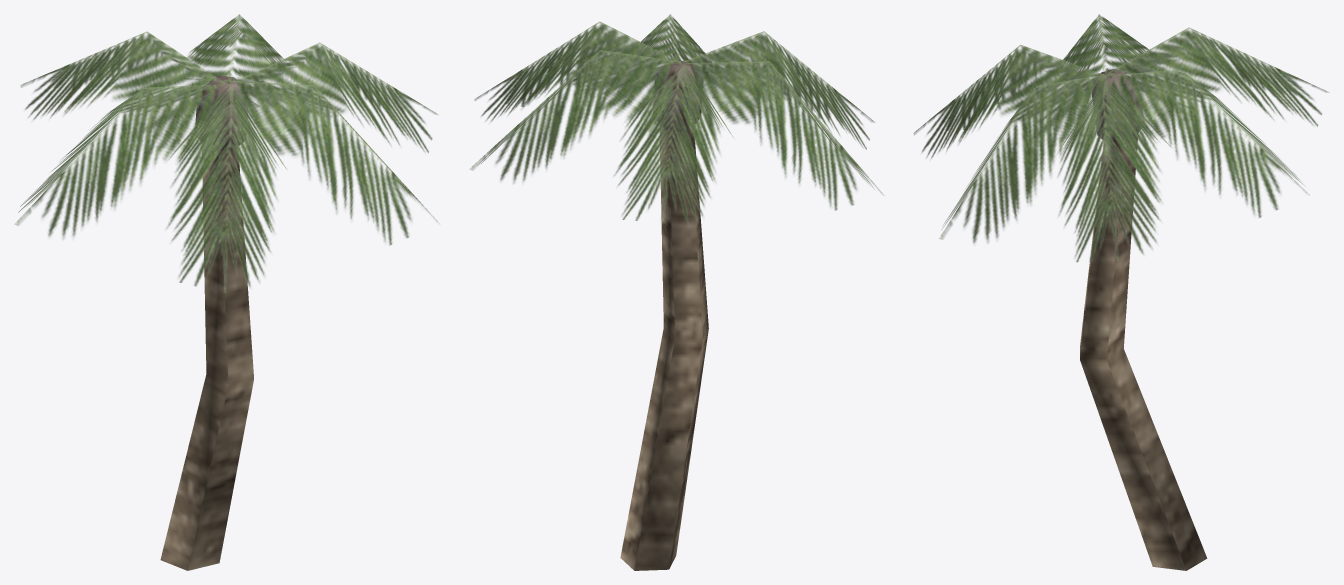
The model's file is palm_1.glb.
3 views of the same model, side by side, from view 1: azimuth 30°, elevation 25°; view 2: azimuth 150°, elevation 25°; view 3: azimuth 270°, elevation 25° (orthographic). The views are drawn at different scales.
Visible parts, largest first — view 1: palm_1; view 2: palm_1; view 3: palm_1.
Boxes of the visible parts, left/top/right/bottom form: palm_1: left=14, top=14, right=439, bottom=570; palm_1: left=470, top=14, right=884, bottom=570; palm_1: left=913, top=14, right=1329, bottom=570.
Size of the model in its own units: 4.4 by 5.19 by 3.81.
Materials: 3 (3 with a texture image).
